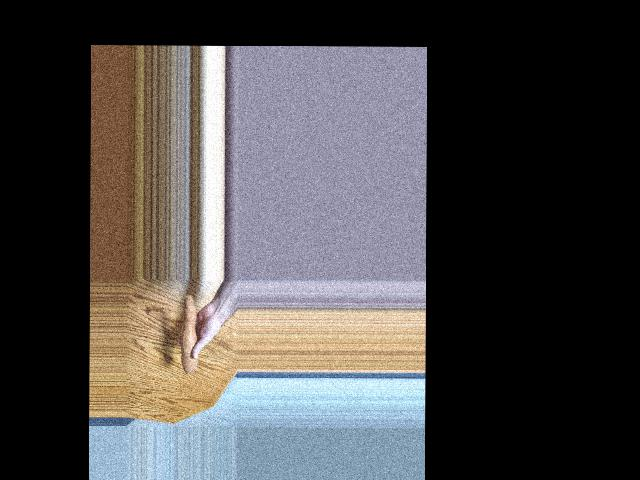sweet_potato: (178, 294, 201, 370)
